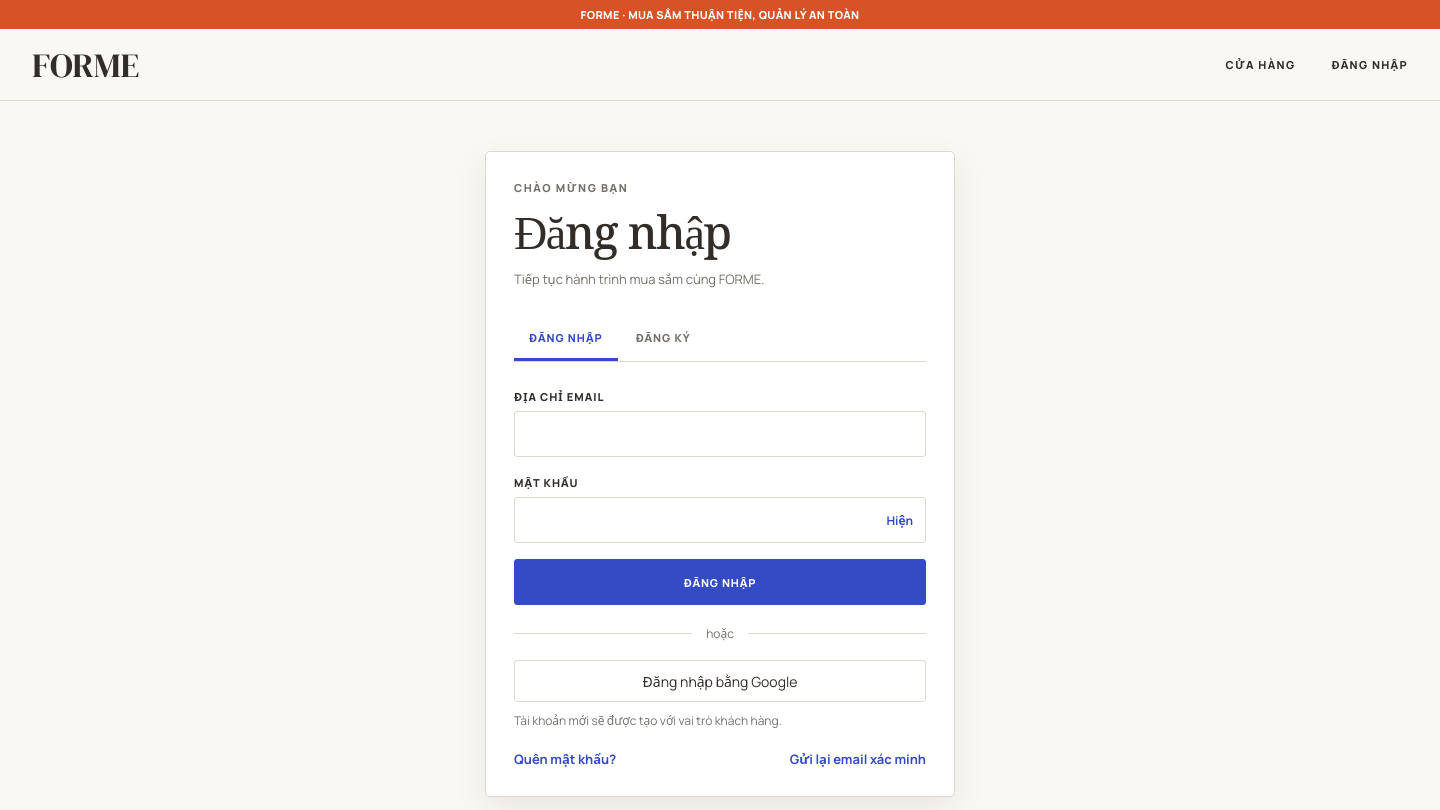
App › clearly asks for the authenticator code during login
The width and height of the screenshot is (1440, 810).
In the field labelled "ĐỊA CHỈ EMAIL": (720, 434) x1=514 y1=411 x2=926 y2=457, type "test@example.com"
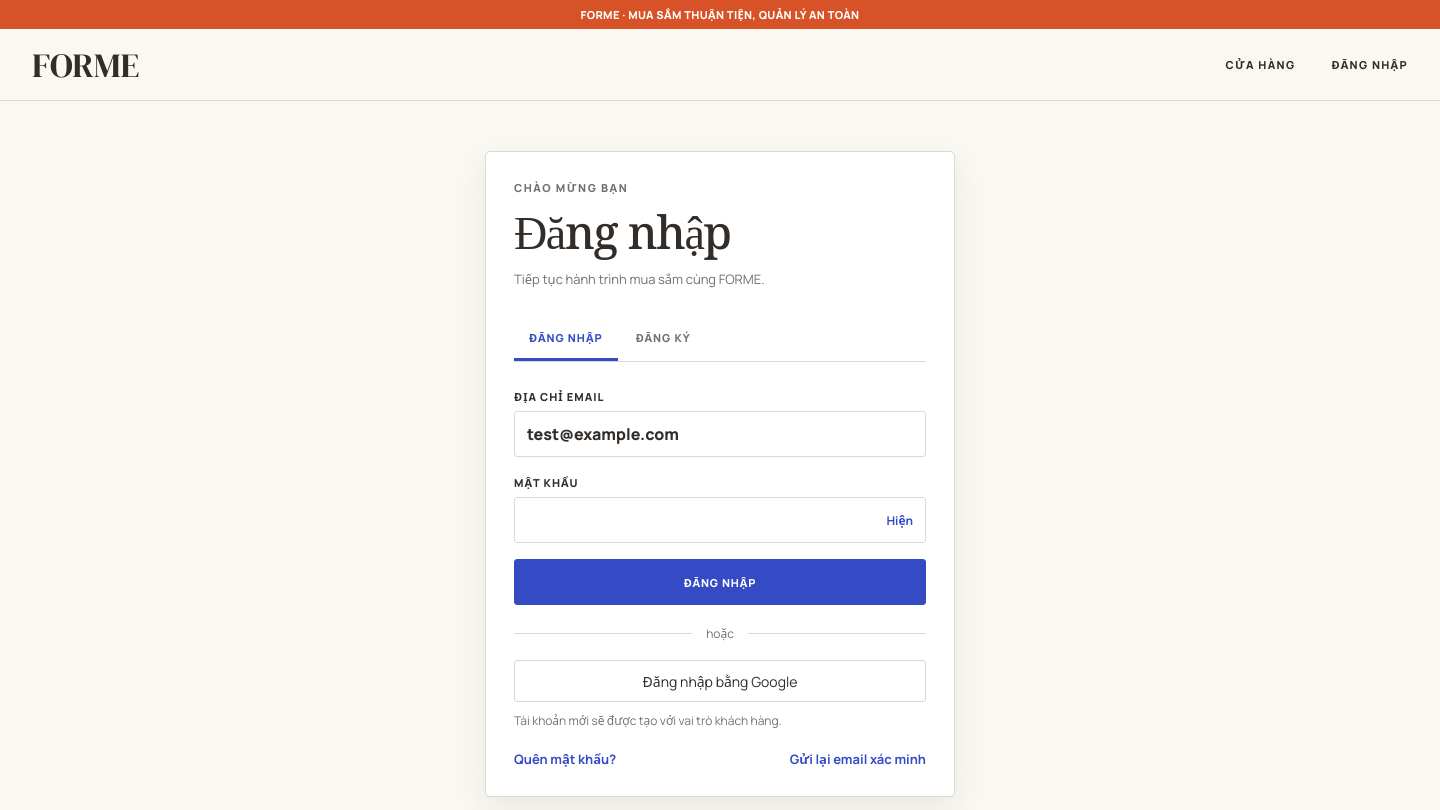
In the password field labelled "MẬT KHẨU": (720, 520) x1=514 y1=497 x2=926 y2=543, type "StrongPass123"
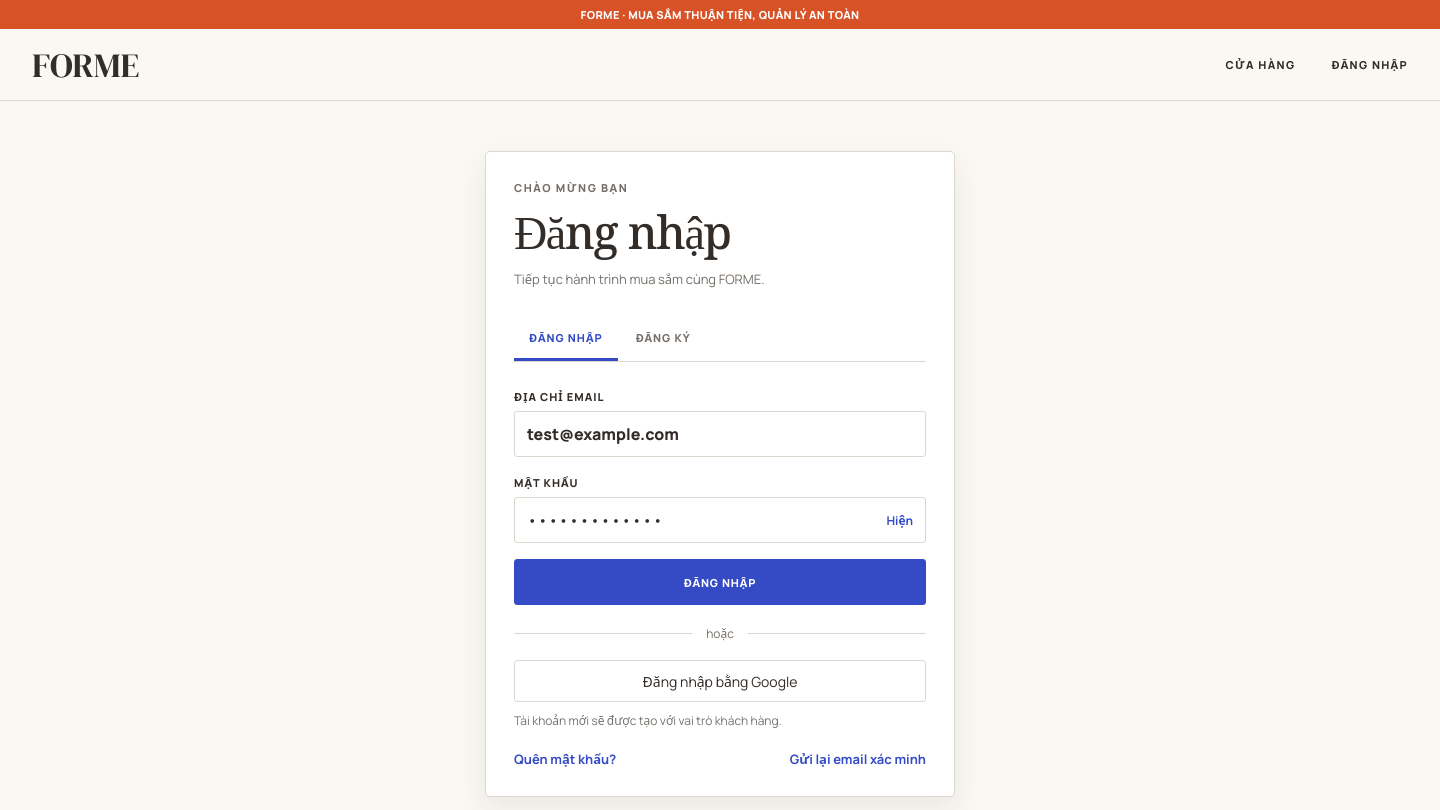
Click the button "ĐĂNG NHẬP": (720, 582) x1=514 y1=559 x2=926 y2=605
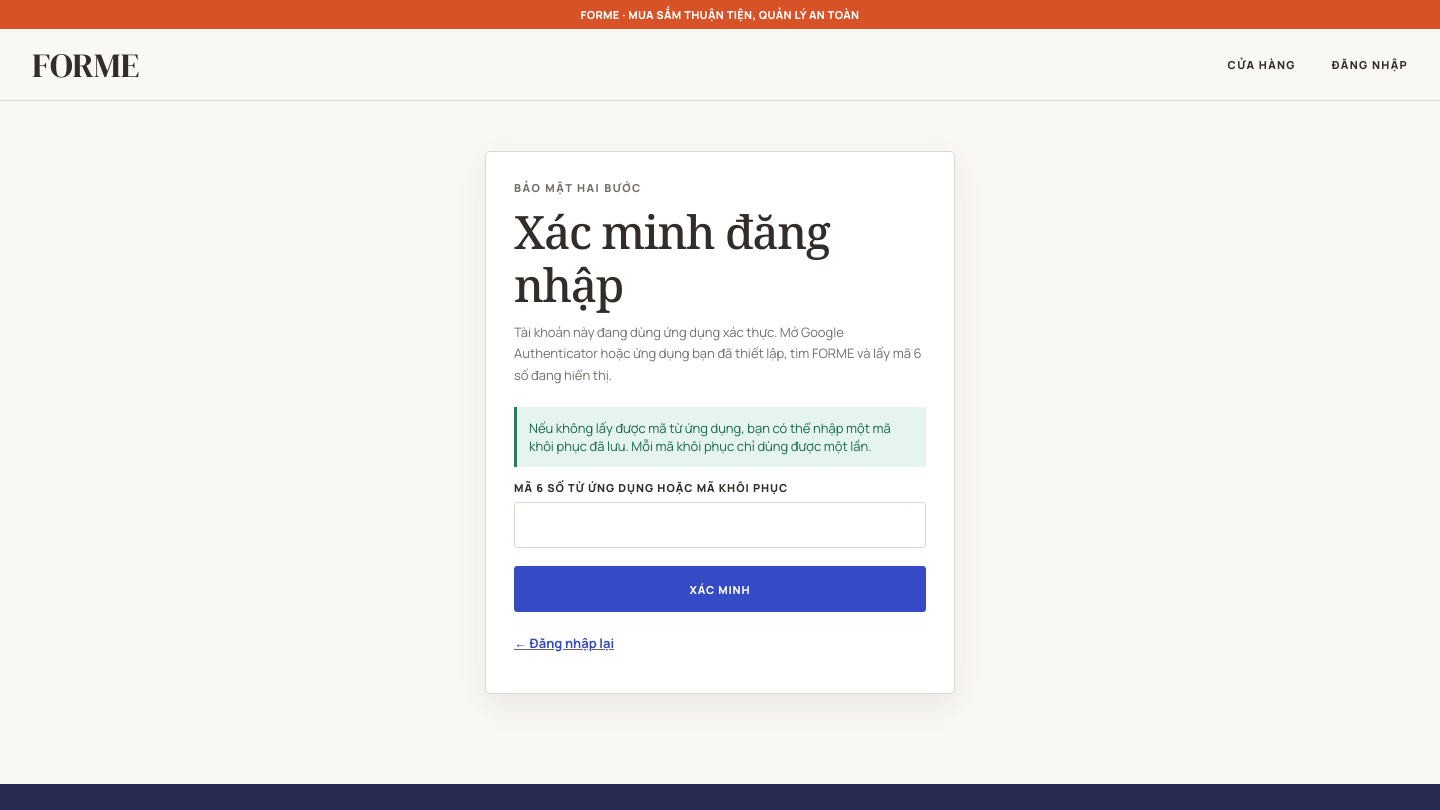
Check: the field labelled "MÃ 6 SỐ TỪ ỨNG DỤNG HOẶC MÃ KHÔI PHỤC" is shown, box x1=514 y1=502 x2=926 y2=548
Check: the text "Mở Google Authenticator hoặc ứng dụng bạn đã thiết lập" is shown, box x1=514 y1=323 x2=922 y2=384
Check: the text "Mỗi mã khôi phục chỉ dùng được một lần" is shown, box x1=529 y1=419 x2=891 y2=455
